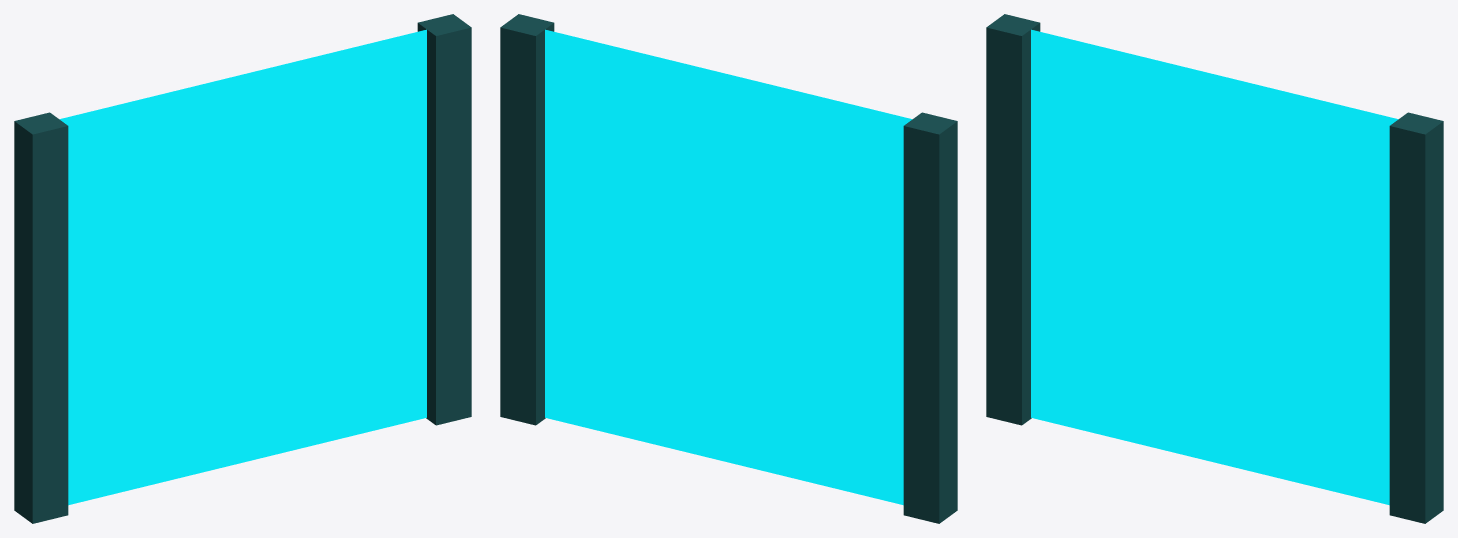
File: tuong cong tru nhan chia.fbx
3 renders of one model, left to right at view 1: azimuth 30°, elevation 25°; view 2: azimuth 150°, elevation 25°; view 3: azimuth 330°, elevation 25°, orthographic.
Parts seen in each view (by area): view 1: Plane.019; view 2: Plane.019; view 3: Plane.019.
Boxes of the visible parts, x1,y1,x2,y2 form: Plane.019: (14,14,471,523); Plane.019: (500,14,957,523); Plane.019: (986,14,1443,523).
Size of the model in its own units: 119 by 101 by 8.67.
